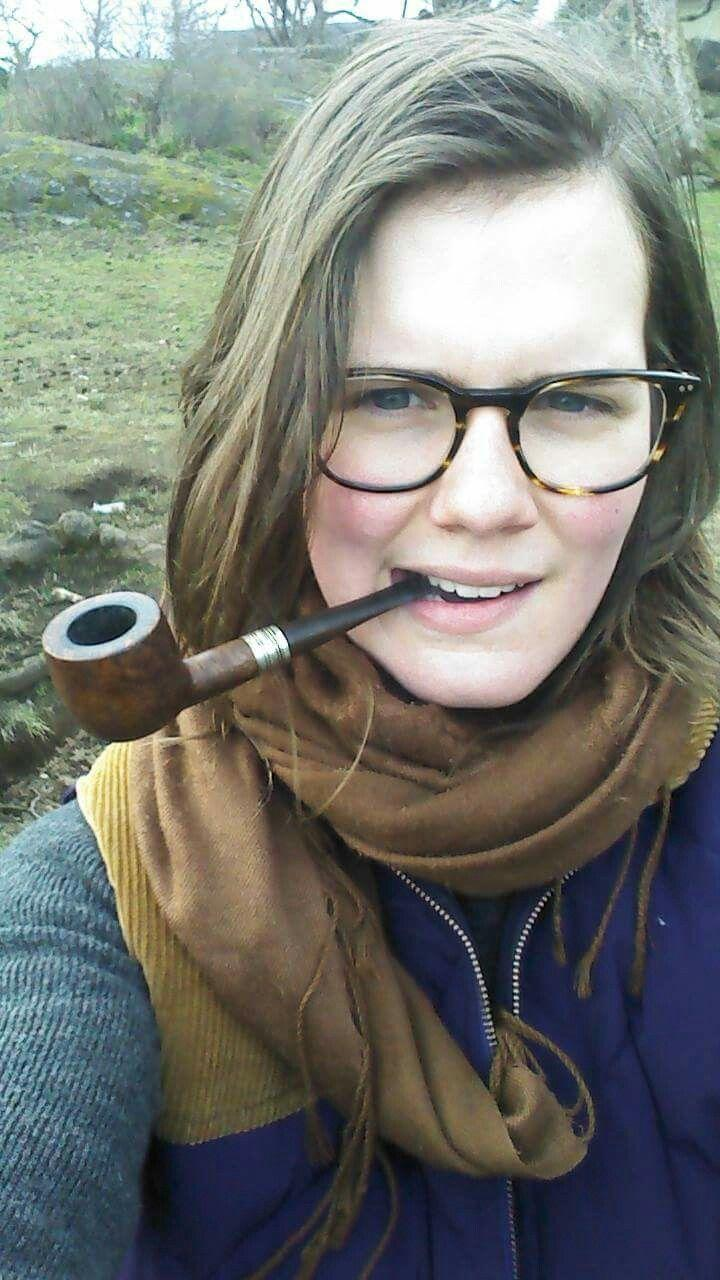trubka: (43, 582, 432, 741)
